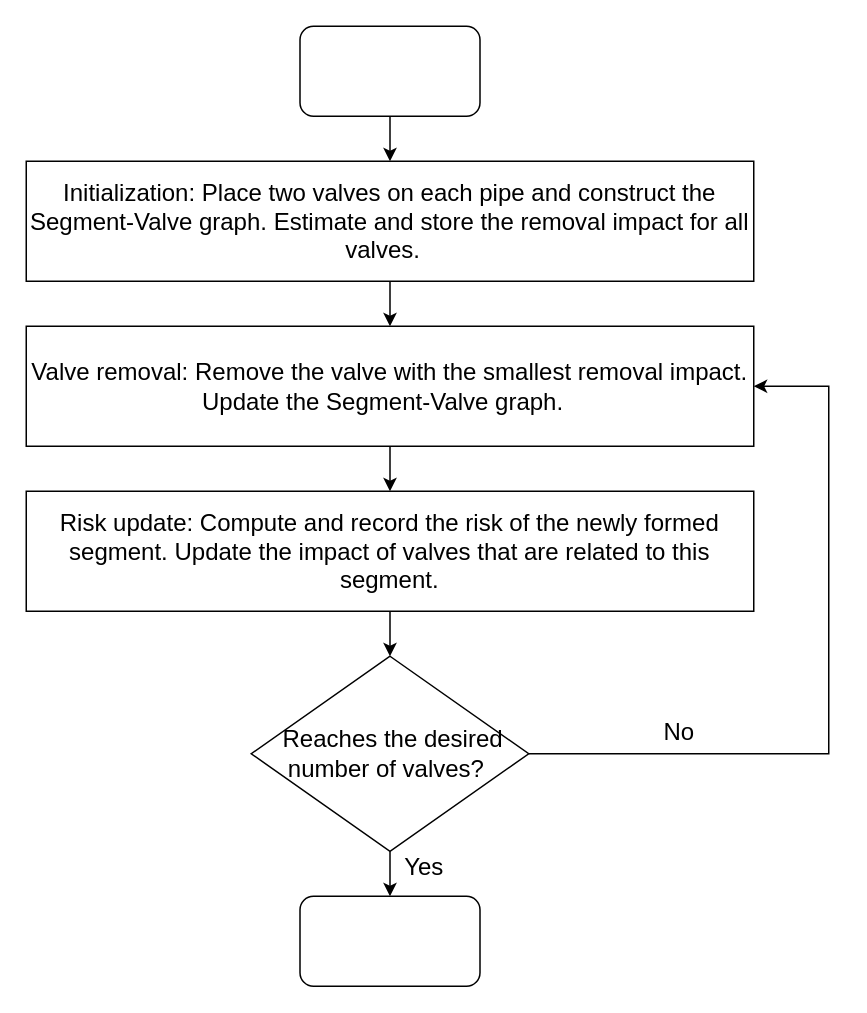
This 867x1013 diagram has some shape labels left out. The centre of each missing label's shape, as x and y in pixels:
"Start" goes at (389,70).
"Stop" goes at (389,940).
